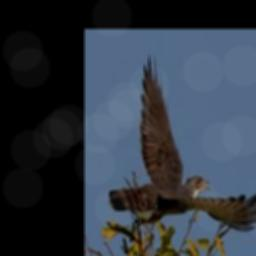Cuckoo: (108, 52, 256, 229)
